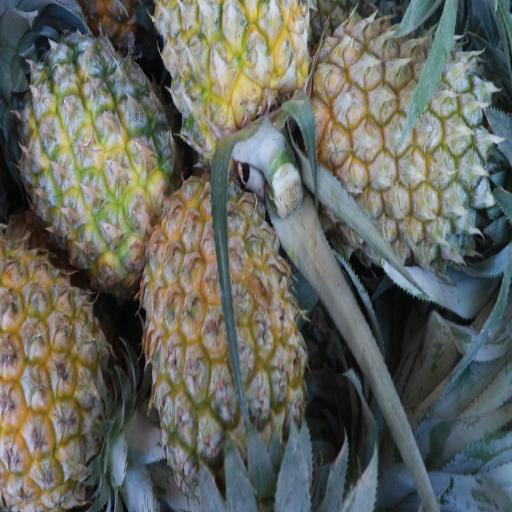------------------------------: (146, 176, 295, 474)
Pineapple - v8 v1: (22, 41, 168, 282), (0, 241, 127, 505), (159, 0, 308, 156)
